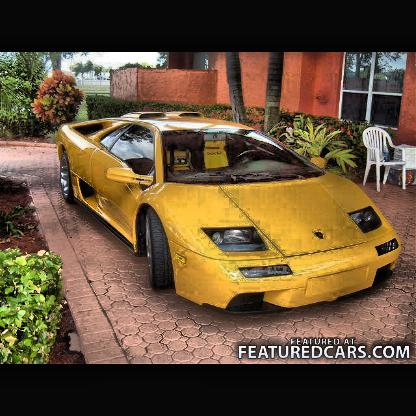Lamborghini Diablo Coupe 2001: (56, 109, 405, 319)
